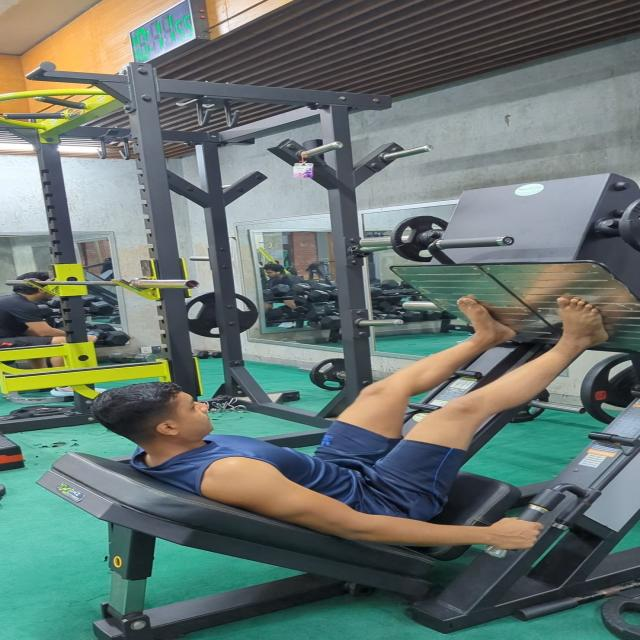Normal_LegPress: (68, 284, 640, 558)
